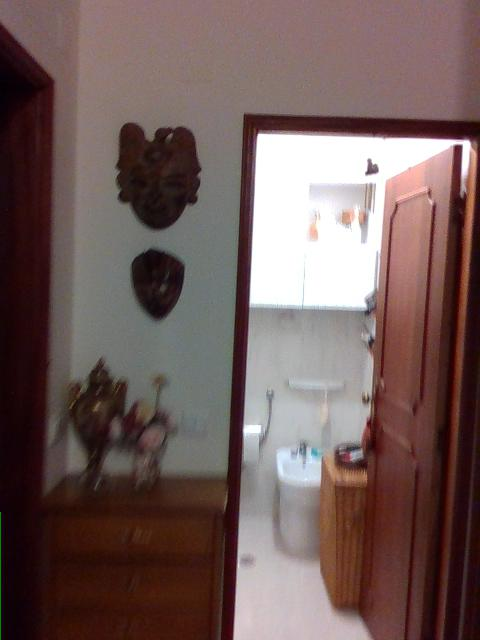door: (360, 142, 464, 640)
